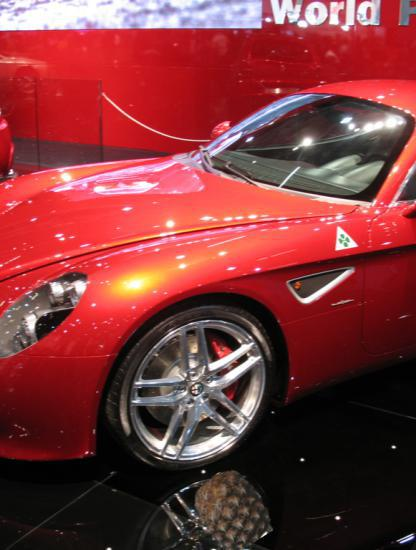Pineapple: (193, 471, 271, 549)
